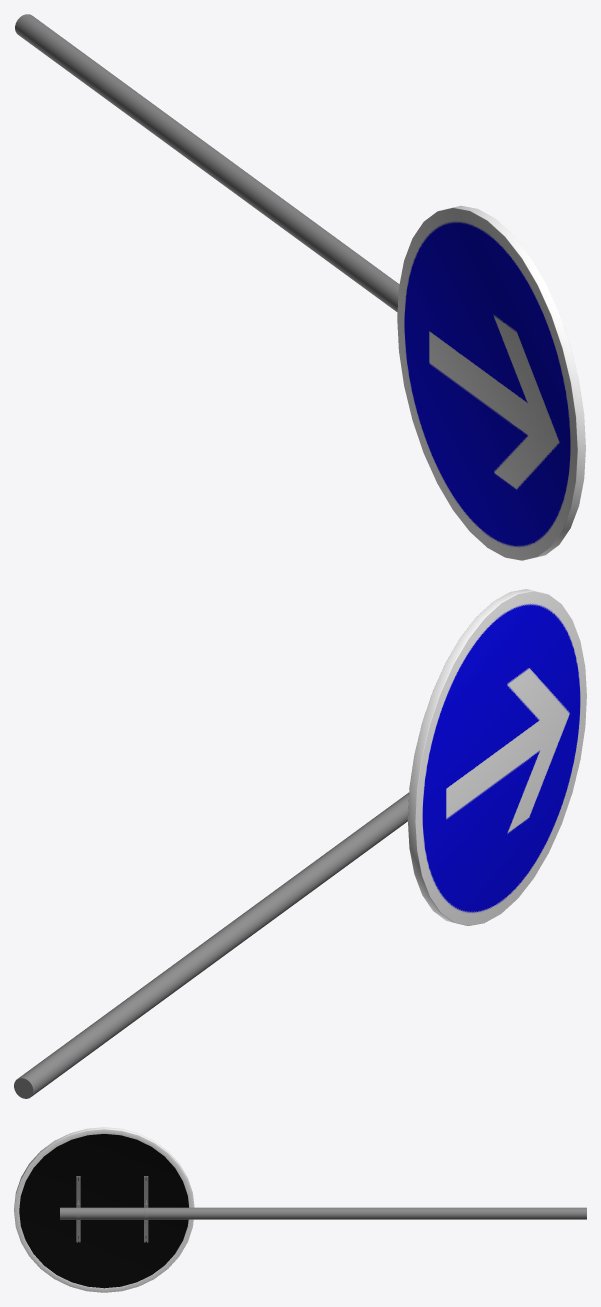
File: go_sign.obj
The picture shows the model from 3 angles, top to bottom: view 1: azimuth 30°, elevation 25°; view 2: azimuth 150°, elevation 25°; view 3: azimuth 270°, elevation 25°; orthographic projection. The views are drawn at different scales.
Visible parts, largest first — view 1: sign.019, rod.019; view 2: sign.019, rod.019; view 3: sign.019, rod.019.
Part boxes in pixels (box(x1,y1,x2,y2)): sign.019: box(397, 205, 585, 560); rod.019: box(15, 14, 399, 312); sign.019: box(407, 589, 586, 925); rod.019: box(14, 792, 408, 1098); sign.019: box(14, 1127, 194, 1292); rod.019: box(60, 1176, 586, 1242).
Size of the model in its own units: 0.0774 by 0.7529 by 2.39.
Materials: 3 (1 with a texture image).
